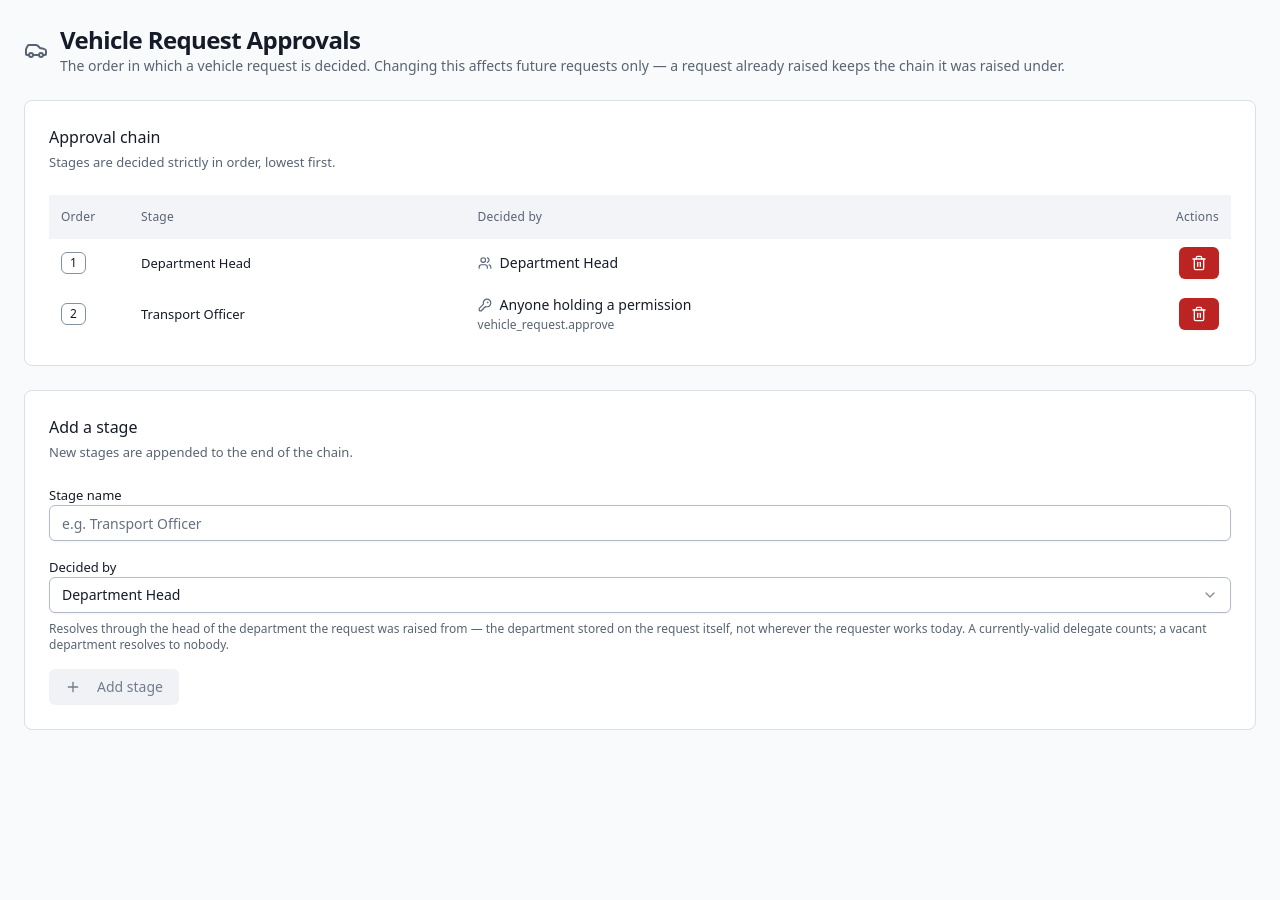
Test: Vehicle approval chain — naming a person › offers the eligible approvers the server returned
Click the dropdown with test id "select-stage-resolver" at [121, 594], box [49,577,1231,613]
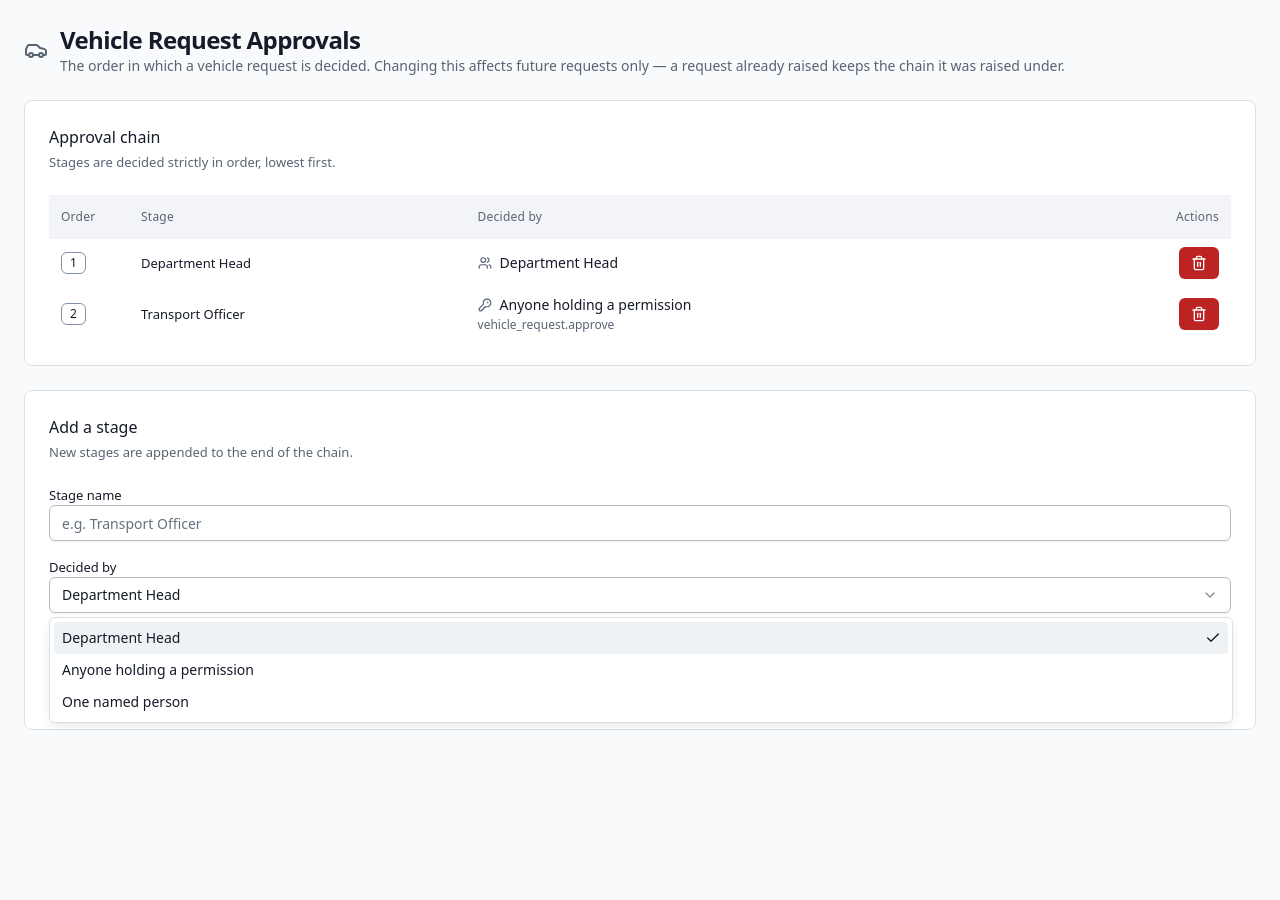
Click the option "One named person" at [126, 702], box [62,692,189,711]
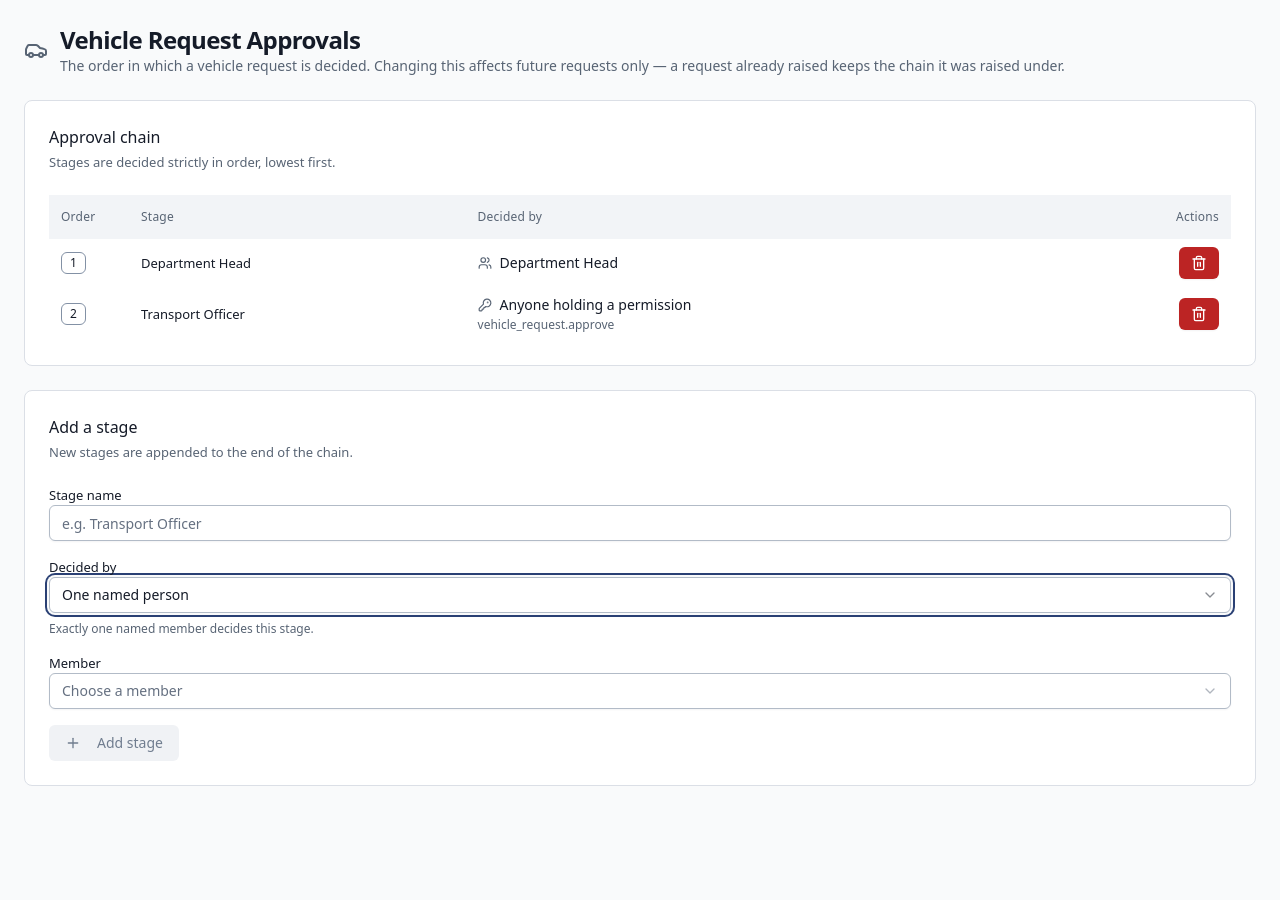
Click the dropdown with test id "select-stage-membership" at [122, 690], box [49,673,1231,709]
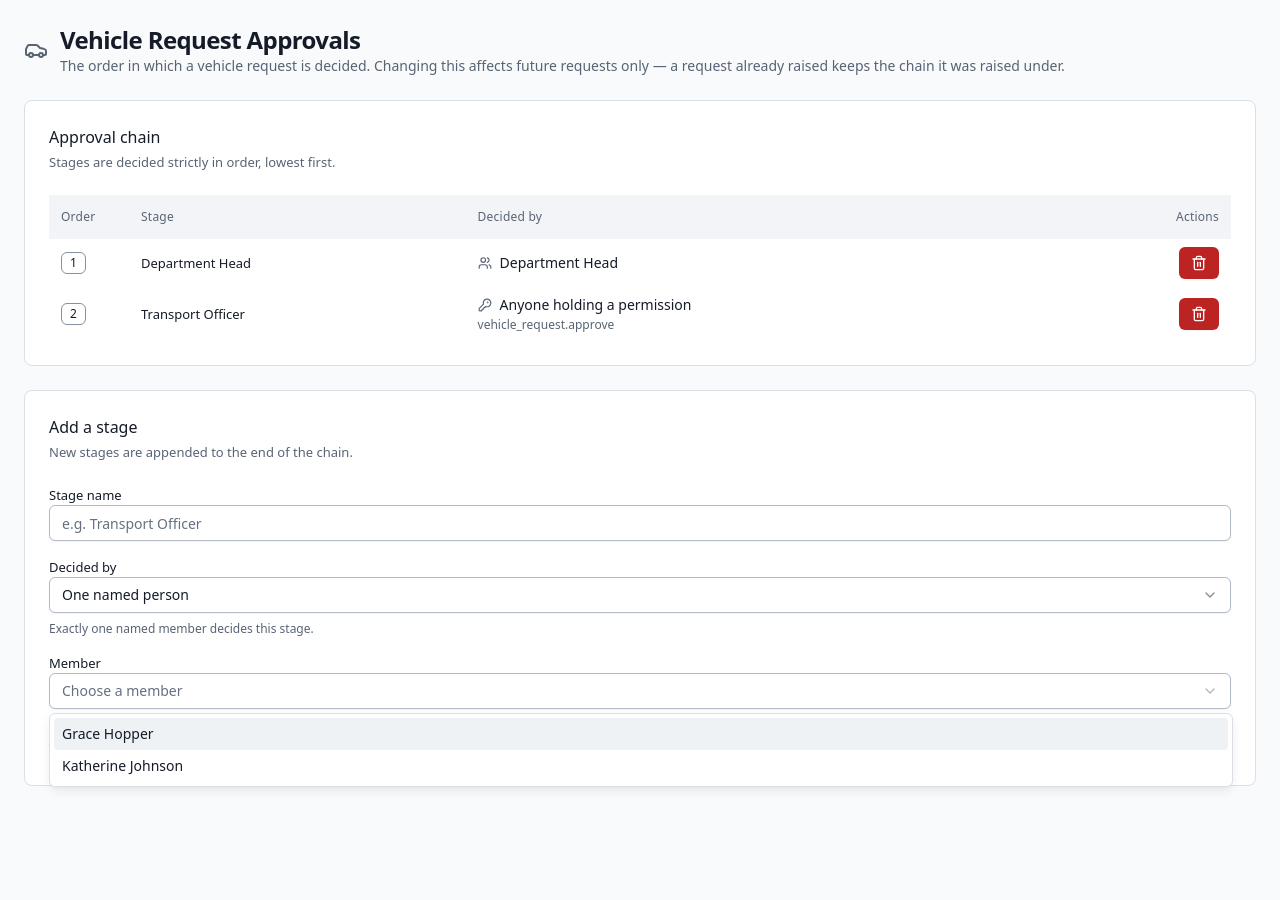
Check: the option "Grace Hopper" is shown, box [54,718,1228,750]
Check: the option "Katherine Johnson" is shown, box [62,756,183,775]
